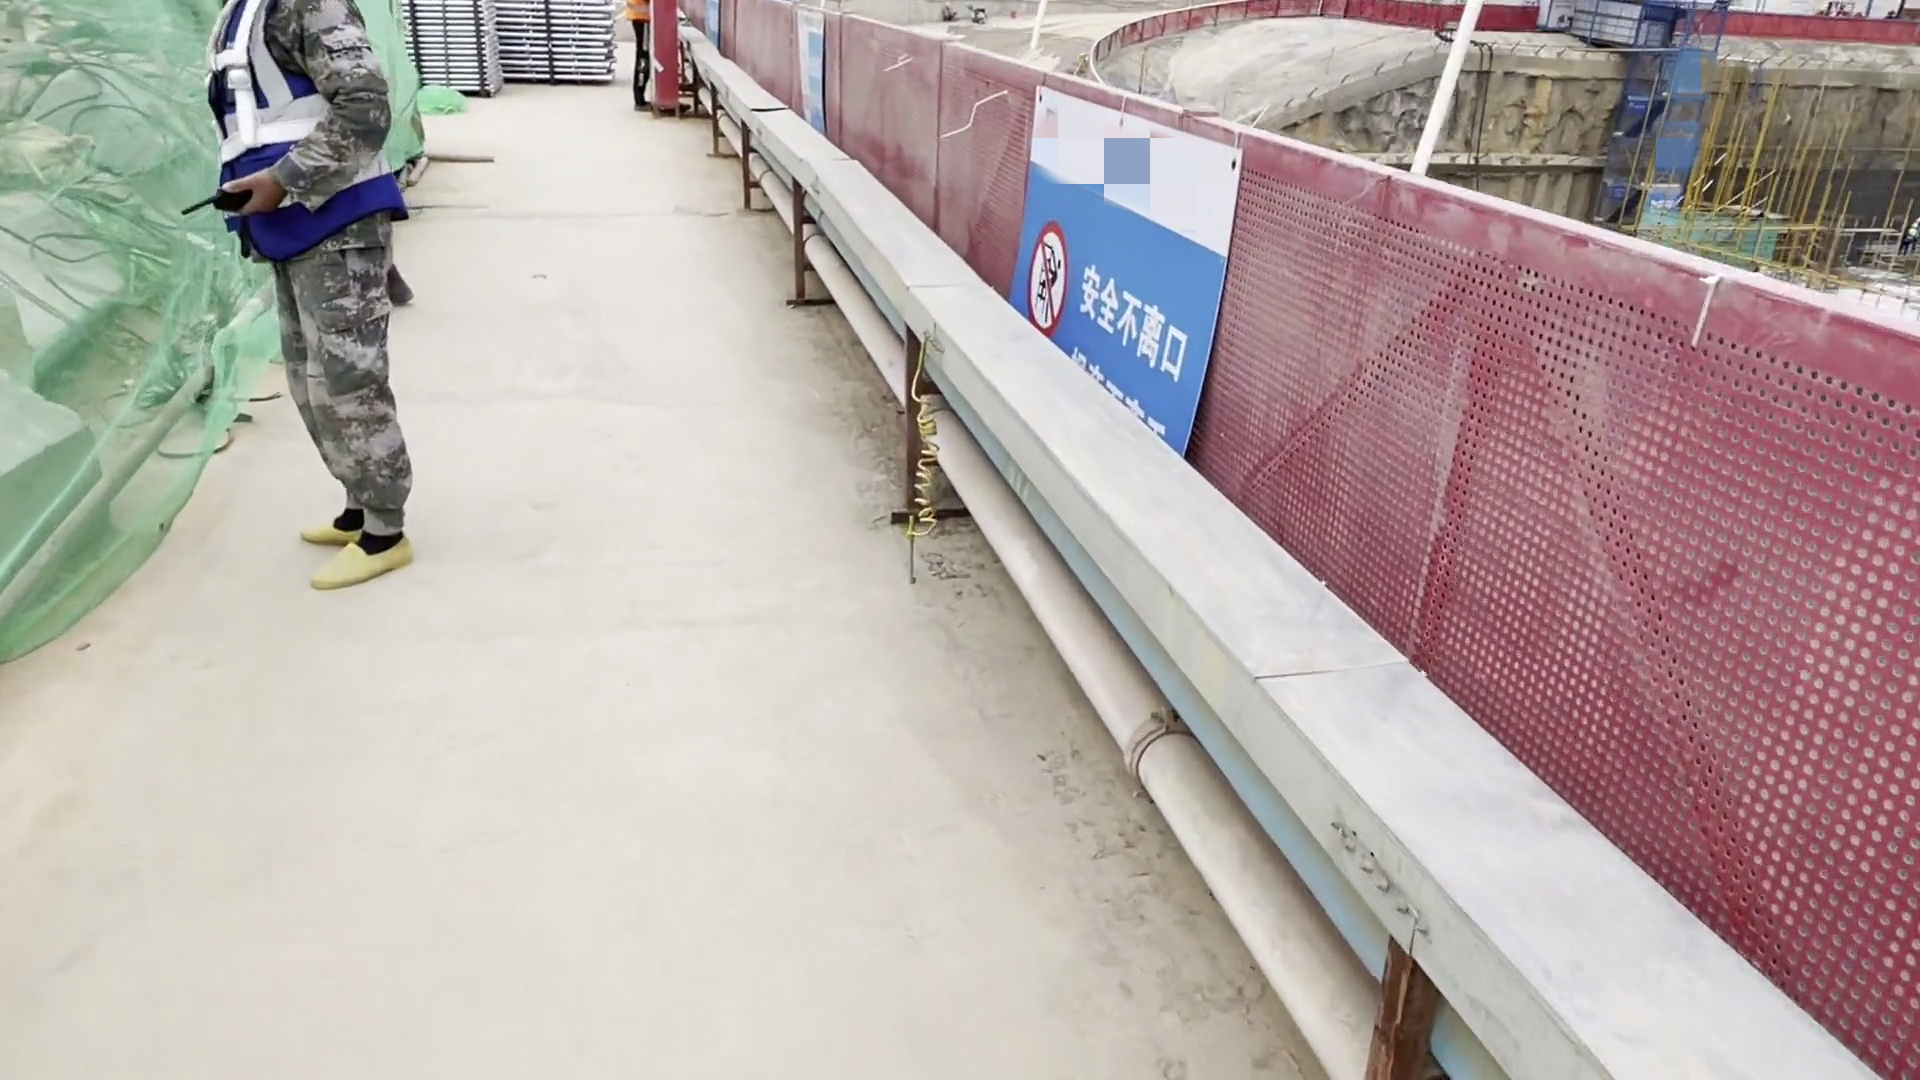person: (192, 1, 438, 615)
scaffold: (397, 4, 623, 92)
vest: (206, 4, 444, 265)
